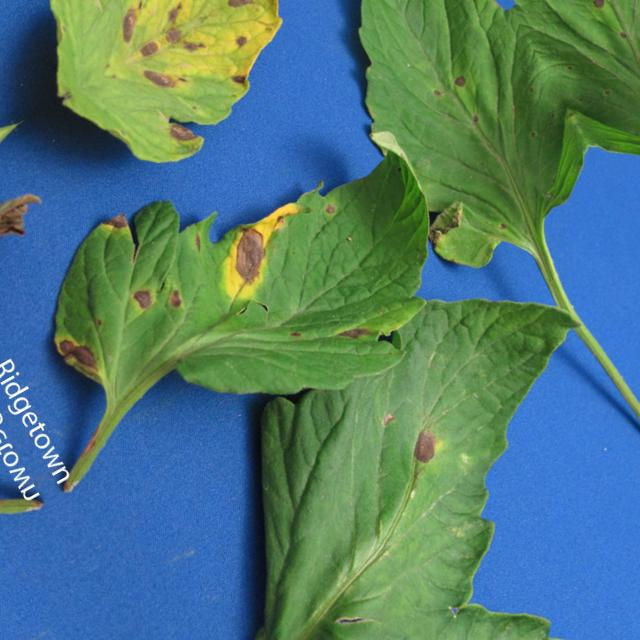Tomato Early blight leaf: (85, 243, 640, 640), (0, 73, 489, 508), (268, 0, 632, 320), (0, 0, 343, 257)
